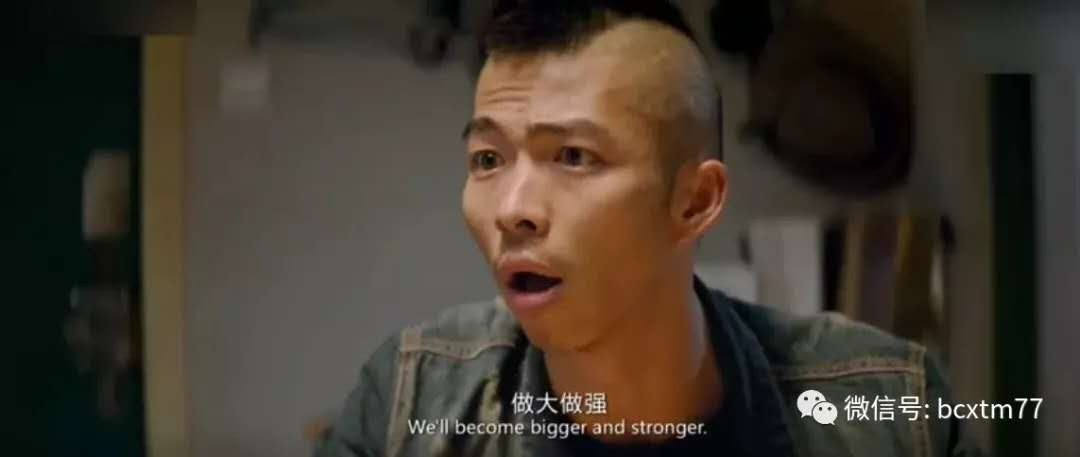noWear: (459, 93, 731, 352)
